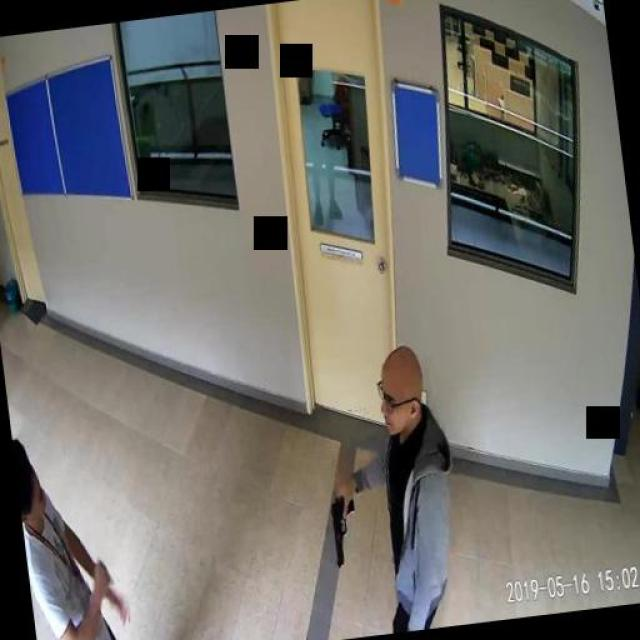gun: (328, 490, 360, 568)
